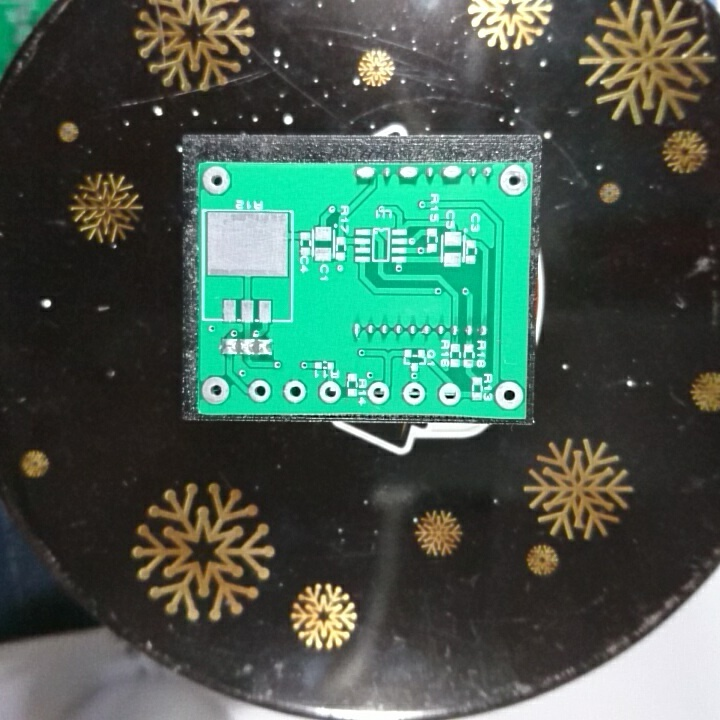F: (498, 163, 531, 200), (201, 163, 234, 195), (199, 375, 231, 407), (494, 378, 524, 412), (365, 379, 391, 407), (282, 378, 308, 406), (246, 378, 274, 404), (436, 380, 462, 406), (401, 380, 426, 407), (317, 379, 342, 406)
P: (352, 163, 378, 183), (397, 164, 421, 182), (440, 163, 463, 181)
